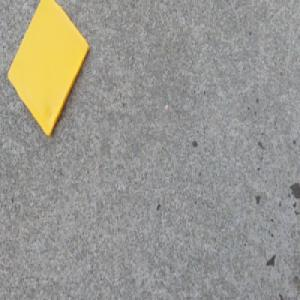PlasticPart: (5, 0, 90, 140)
